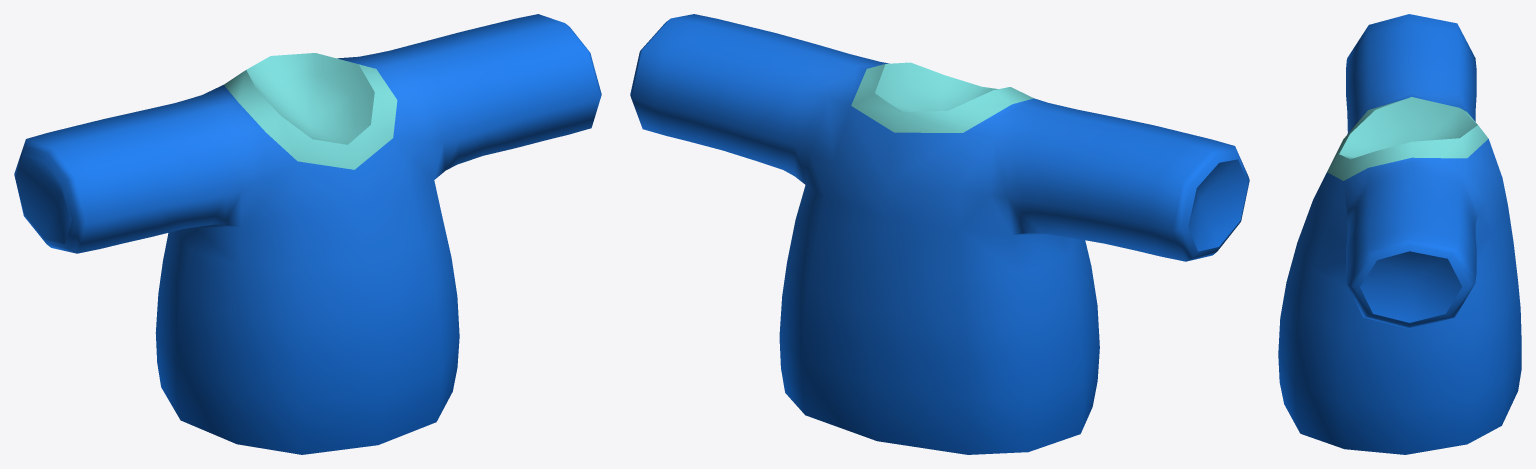
Rendered from Top_11.fbx.
The picture shows the model from 3 angles, left to right: view 1: azimuth 30°, elevation 25°; view 2: azimuth 150°, elevation 25°; view 3: azimuth 270°, elevation 25°; orthographic projection. The views are drawn at different scales.
Parts seen in each view (by area): view 1: Top_11; view 2: Top_11; view 3: Top_11.
Part boxes in pixels (x1=…): Top_11: x1=14, y1=14, x2=601, y2=454; Top_11: x1=630, y1=14, x2=1249, y2=454; Top_11: x1=1278, y1=14, x2=1521, y2=454.
Size of the model in its own units: 80.71 by 46.22 by 35.79.
